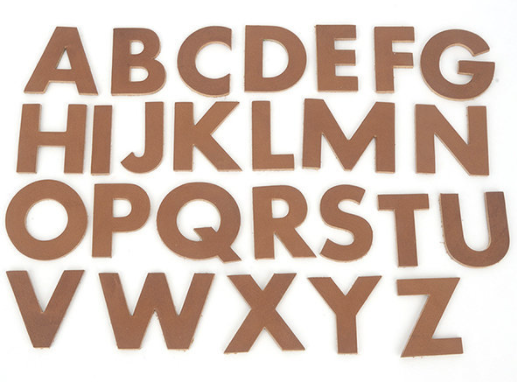A: (19, 19, 103, 99)
B: (109, 22, 170, 97)
C: (176, 25, 237, 98)
D: (242, 23, 309, 95)
E: (313, 19, 365, 96)
F: (371, 23, 418, 97)
G: (421, 29, 497, 100)
H: (15, 102, 88, 178)
I: (90, 101, 119, 180)
J: (119, 100, 169, 177)
K: (170, 99, 245, 177)
L: (246, 99, 299, 176)
M: (299, 95, 403, 179)
N: (408, 101, 502, 181)
O: (4, 177, 89, 262)
P: (90, 181, 152, 260)
Q: (154, 181, 245, 266)
R: (246, 185, 317, 263)
S: (315, 183, 377, 262)
T: (373, 192, 434, 268)
U: (435, 190, 513, 269)
V: (3, 268, 88, 350)
W: (97, 270, 217, 353)
X: (221, 270, 310, 354)
Y: (306, 269, 387, 358)
Z: (391, 275, 475, 358)
